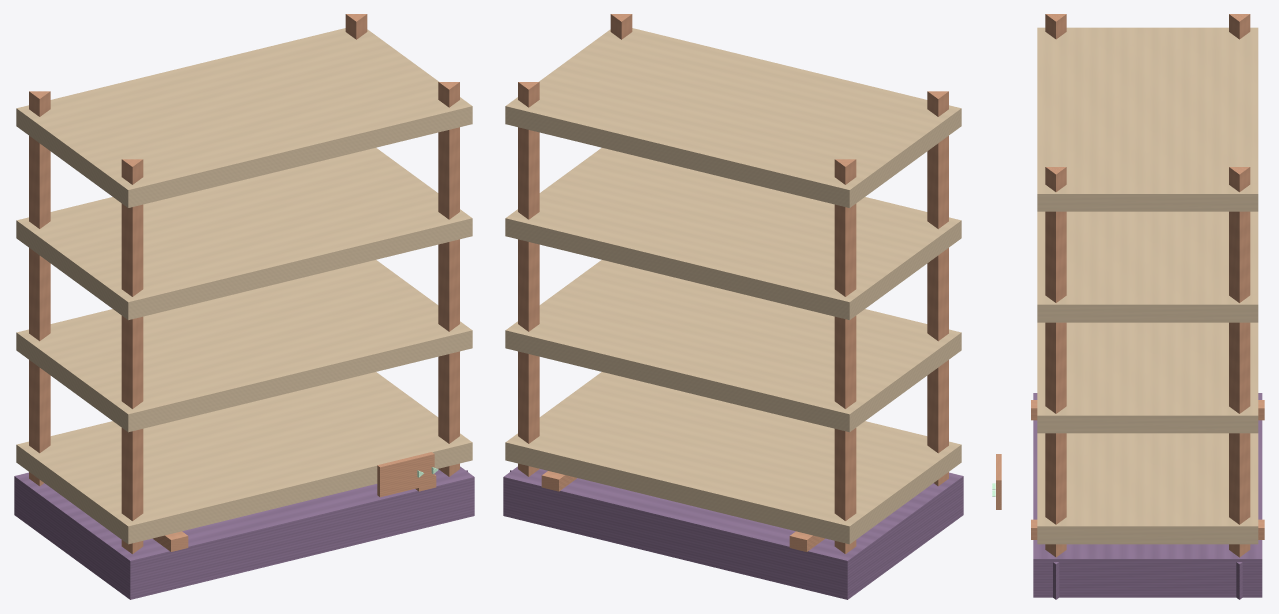
File: atlas100-s082-a06.lod1.glb
3 renders of one model, left to right at view 1: azimuth 30°, elevation 25°; view 2: azimuth 150°, elevation 25°; view 3: azimuth 270°, elevation 25°, orthographic.
Visible parts, largest first — view 1: atlas100-s082-a06:part-014, atlas100-s082-a06:part-013, atlas100-s082-a06:part-012, atlas100-s082-a06:part-011, atlas100-s082-a06:part-000, atlas100-s082-a06:part-005, atlas100-s082-a06:part-009, atlas100-s082-a06:part-003, atlas100-s082-a06:part-015; view 2: atlas100-s082-a06:part-014, atlas100-s082-a06:part-013, atlas100-s082-a06:part-011, atlas100-s082-a06:part-012, atlas100-s082-a06:part-000, atlas100-s082-a06:part-003, atlas100-s082-a06:part-007, atlas100-s082-a06:part-005; view 3: atlas100-s082-a06:part-014, atlas100-s082-a06:part-011, atlas100-s082-a06:part-012, atlas100-s082-a06:part-013, atlas100-s082-a06:part-000, atlas100-s082-a06:part-009, atlas100-s082-a06:part-007, atlas100-s082-a06:part-003, atlas100-s082-a06:part-005.
Part boxes in pixels (x1,y1,x2,y2): atlas100-s082-a06:part-014: (16, 28, 472, 207); atlas100-s082-a06:part-013: (16, 148, 472, 320); atlas100-s082-a06:part-012: (16, 260, 472, 432); atlas100-s082-a06:part-011: (16, 372, 472, 544); atlas100-s082-a06:part-000: (14, 466, 474, 599); atlas100-s082-a06:part-005: (121, 159, 143, 553); atlas100-s082-a06:part-009: (438, 82, 459, 476); atlas100-s082-a06:part-003: (29, 91, 50, 486); atlas100-s082-a06:part-015: (377, 452, 434, 497); atlas100-s082-a06:part-014: (505, 28, 961, 207); atlas100-s082-a06:part-013: (505, 148, 961, 320); atlas100-s082-a06:part-011: (505, 372, 961, 544); atlas100-s082-a06:part-012: (505, 260, 961, 432); atlas100-s082-a06:part-000: (503, 466, 963, 599); atlas100-s082-a06:part-003: (834, 159, 856, 553); atlas100-s082-a06:part-007: (518, 82, 539, 476); atlas100-s082-a06:part-005: (927, 91, 948, 486); atlas100-s082-a06:part-014: (1037, 27, 1258, 211); atlas100-s082-a06:part-011: (1037, 433, 1258, 544); atlas100-s082-a06:part-012: (1037, 322, 1258, 433); atlas100-s082-a06:part-013: (1037, 211, 1258, 322); atlas100-s082-a06:part-000: (1033, 393, 1262, 597); atlas100-s082-a06:part-009: (1045, 167, 1066, 557); atlas100-s082-a06:part-007: (1229, 167, 1250, 557); atlas100-s082-a06:part-003: (1229, 14, 1250, 39); atlas100-s082-a06:part-005: (1045, 14, 1066, 39).
Size of the model in its own units: 2.43 by 2.84 by 1.66.
Materials: 4 (4 with a texture image).
